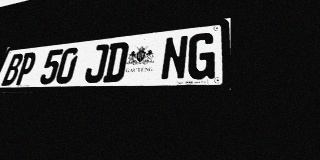0: (54, 47, 80, 84)
5: (38, 49, 64, 84)
B: (1, 53, 25, 86)
D: (102, 41, 130, 82)
G: (186, 32, 216, 80)
J: (83, 44, 110, 83)
N: (160, 35, 189, 81)
P: (14, 52, 38, 85)
